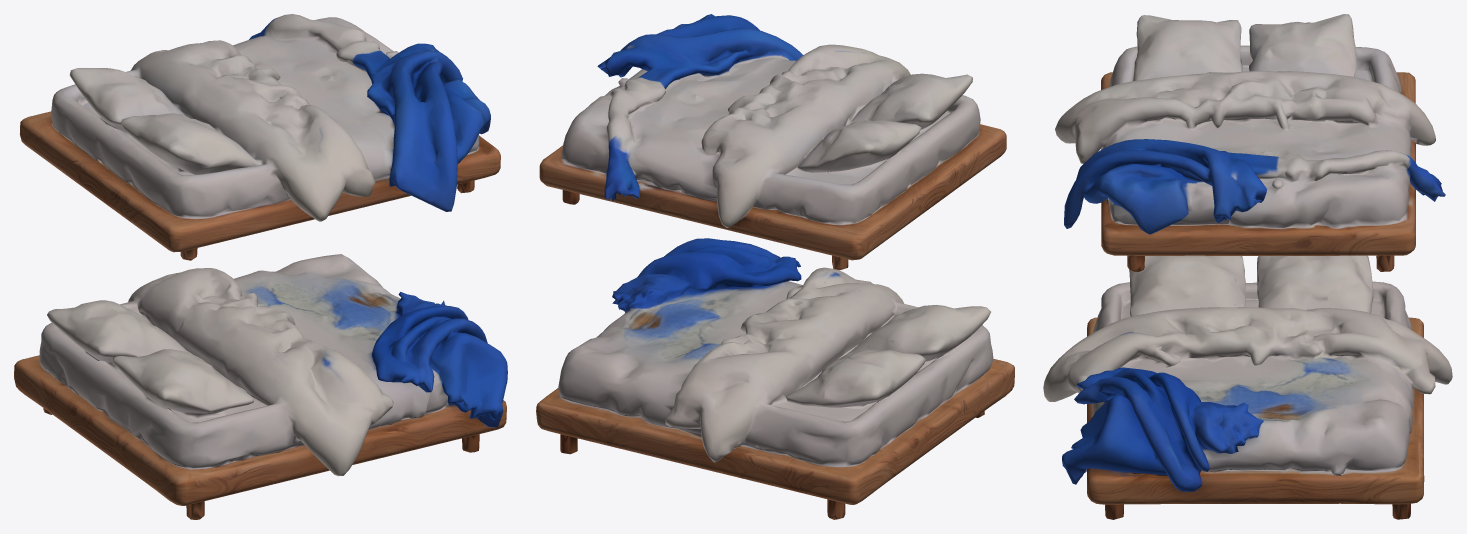
File: au_furn_bed_loft.glb
3 renders of one model, left to right at view 1: azimuth 30°, elevation 25°; view 2: azimuth 150°, elevation 25°; view 3: azimuth 270°, elevation 25°, orthographic. The views are drawn at different scales.
Visible parts, largest first — view 1: tripo_node_2765217d-b20f-4c85-b101-732fbe06838f; view 2: tripo_node_2765217d-b20f-4c85-b101-732fbe06838f; view 3: tripo_node_2765217d-b20f-4c85-b101-732fbe06838f.
Boxes of the visible parts, x1,y1,x2,y2 form: tripo_node_2765217d-b20f-4c85-b101-732fbe06838f: (14, 14, 507, 519); tripo_node_2765217d-b20f-4c85-b101-732fbe06838f: (536, 14, 1014, 519); tripo_node_2765217d-b20f-4c85-b101-732fbe06838f: (1043, 14, 1452, 519).
Size of the model in its own units: 0.5027 by 0.5 by 0.5064.
Materials: 1 (1 with a texture image).
